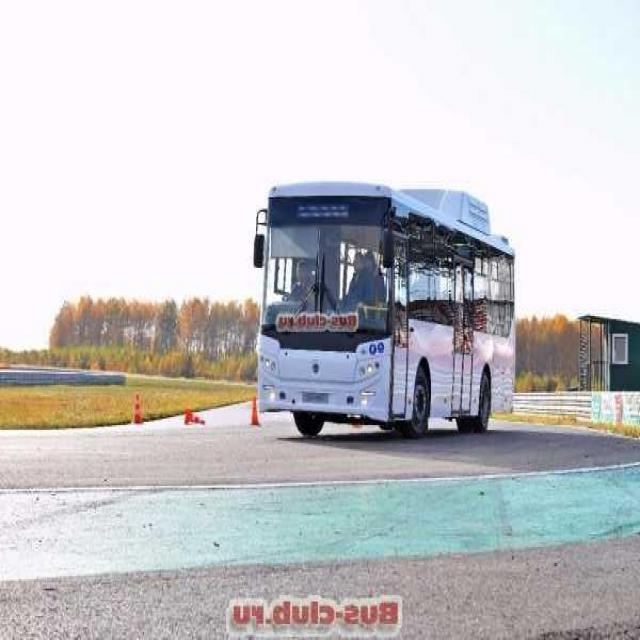bus: (215, 133, 554, 487)
